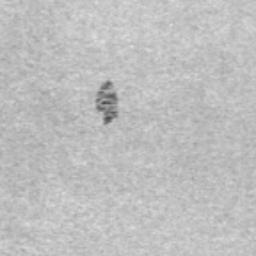Secondary rust skin: (95, 80, 118, 125)
